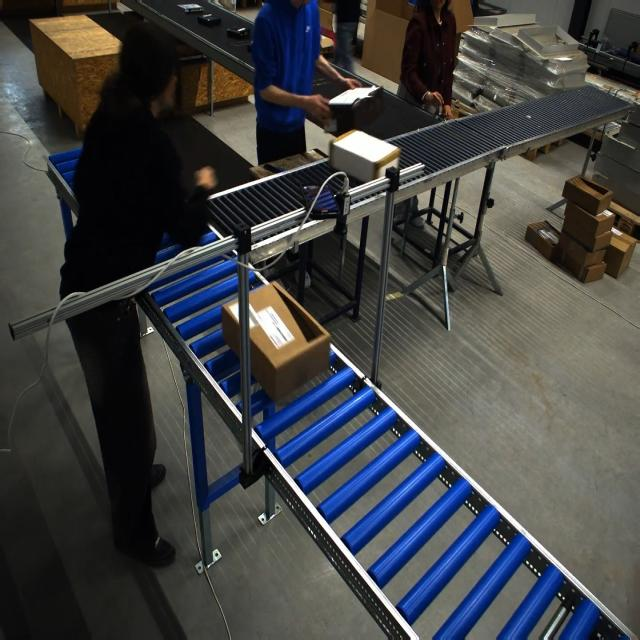box: (222, 279, 328, 401), (329, 130, 395, 186)
product: (328, 85, 377, 107), (226, 27, 250, 39), (197, 14, 221, 26), (177, 3, 204, 13)
